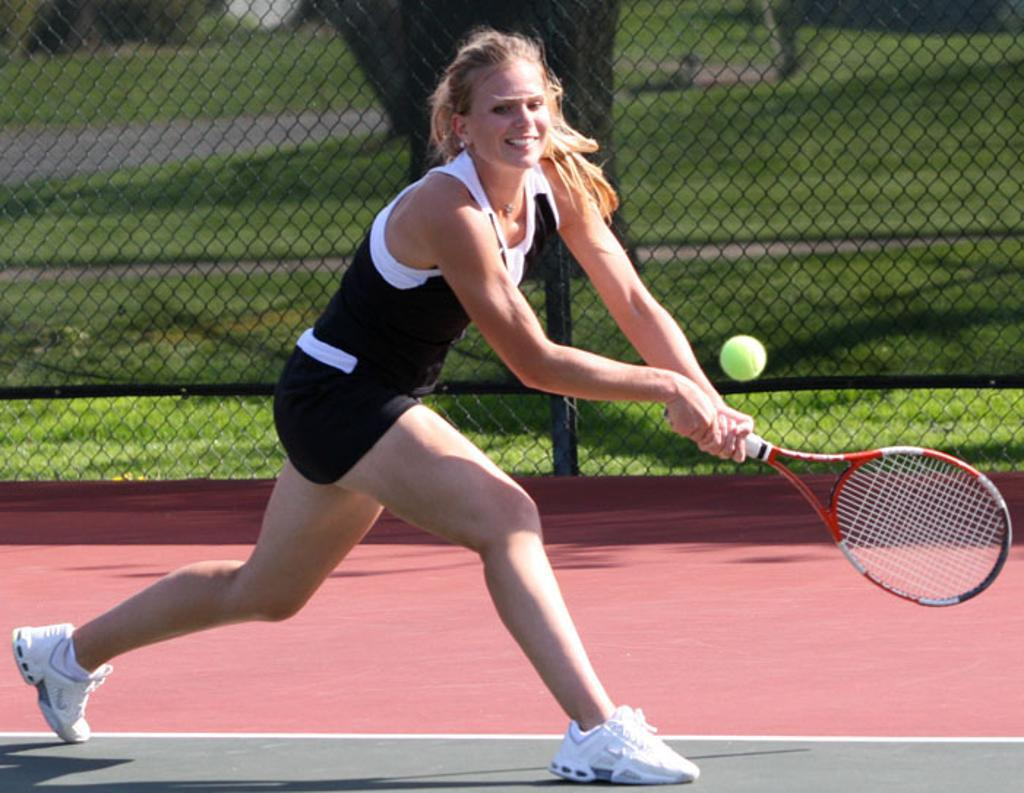face: (469, 65, 549, 167)
